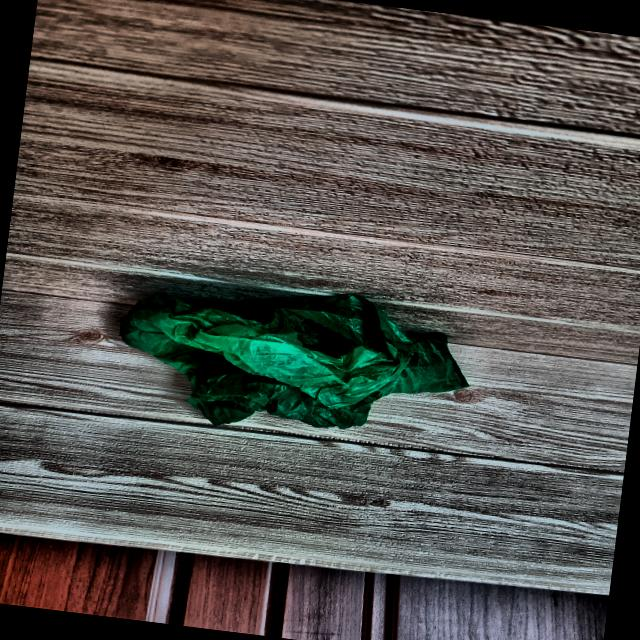plastic bag: (100, 272, 466, 454)
